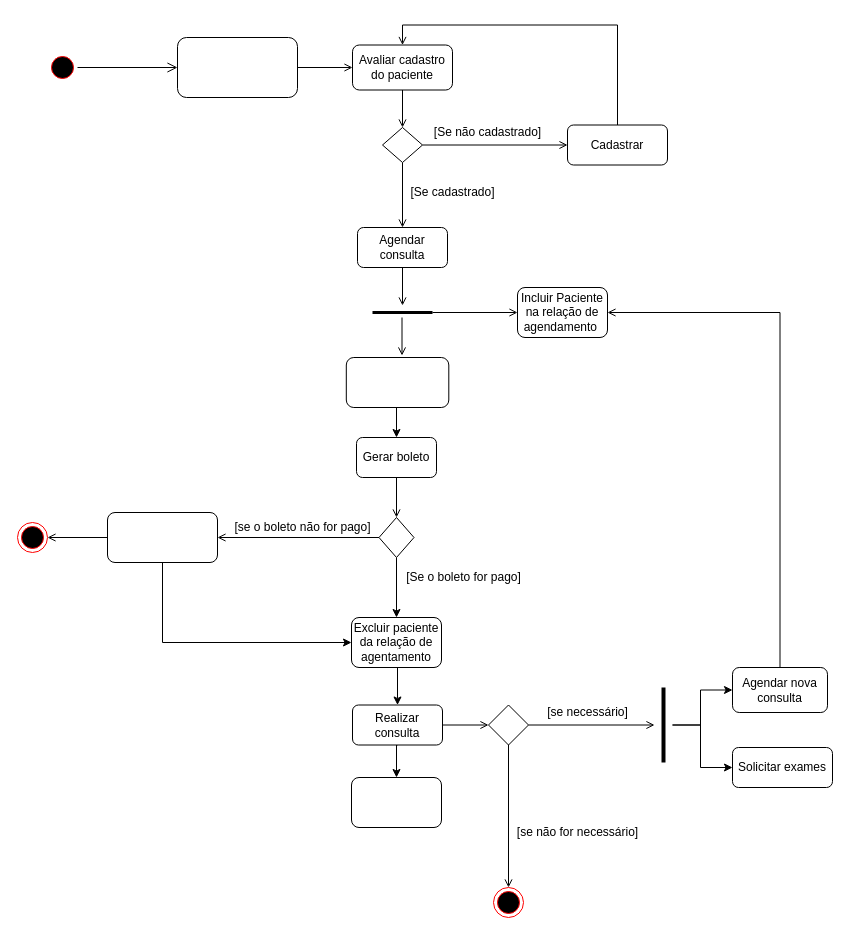
Image size: 850x935. Some labels were removed from this diagram. Each missing label, with the centre of its shape:
"Emitir prontuário" goes at point 396,802.
"Notificar cancelamento de agendamento" goes at point 162,537.
"Notificar confirmação de agendamento" goes at point 397,382.
"Solicitar consulta" goes at point 237,67.
